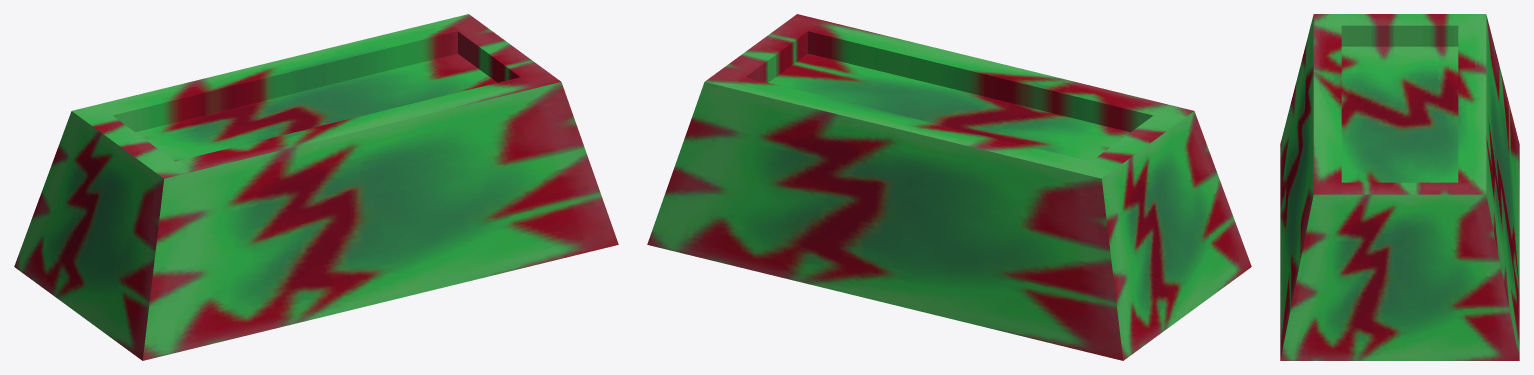
The model's file is Berkonium.fbx.
3 renders of one model, left to right at view 1: azimuth 30°, elevation 25°; view 2: azimuth 150°, elevation 25°; view 3: azimuth 270°, elevation 25°, orthographic. The views are drawn at different scales.
Parts seen in each view (by area): view 1: Rock; view 2: Rock; view 3: Rock.
Part boxes in pixels (x1=…): Rock: x1=14, y1=14, x2=618, y2=360; Rock: x1=647, y1=14, x2=1251, y2=360; Rock: x1=1280, y1=14, x2=1519, y2=360.
Size of the model in its own units: 1.17 by 0.3753 by 0.5482.
